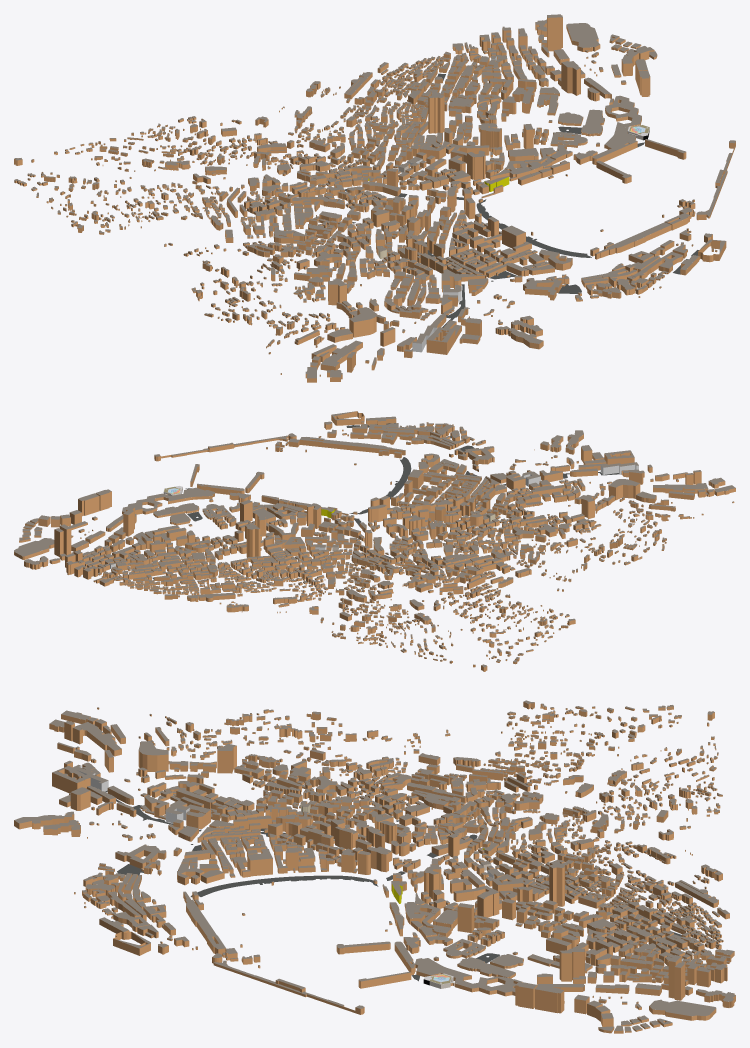
The model's file is monaco.glb.
The picture shows the model from 3 angles, top to bottom: view 1: azimuth 30°, elevation 25°; view 2: azimuth 150°, elevation 25°; view 3: azimuth 270°, elevation 25°; orthographic projection. The views are drawn at different scales.
Visible parts, largest first — view 1: map.osm_buildings, map.osm_areas_pedestrian; view 2: map.osm_buildings, map.osm_areas_pedestrian; view 3: map.osm_buildings, map.osm_areas_pedestrian.
Boxes of the visible parts, x1=… form: map.osm_buildings: x1=14, y1=14, x2=735, y2=382; map.osm_areas_pedestrian: x1=345, y1=73, x2=698, y2=349; map.osm_buildings: x1=14, y1=411, x2=735, y2=671; map.osm_areas_pedestrian: x1=152, y1=423, x2=621, y2=579; map.osm_buildings: x1=14, y1=700, x2=735, y2=1033; map.osm_areas_pedestrian: x1=105, y1=790, x2=681, y2=981.
Size of the model in its own units: 2019 by 111 by 1877.
